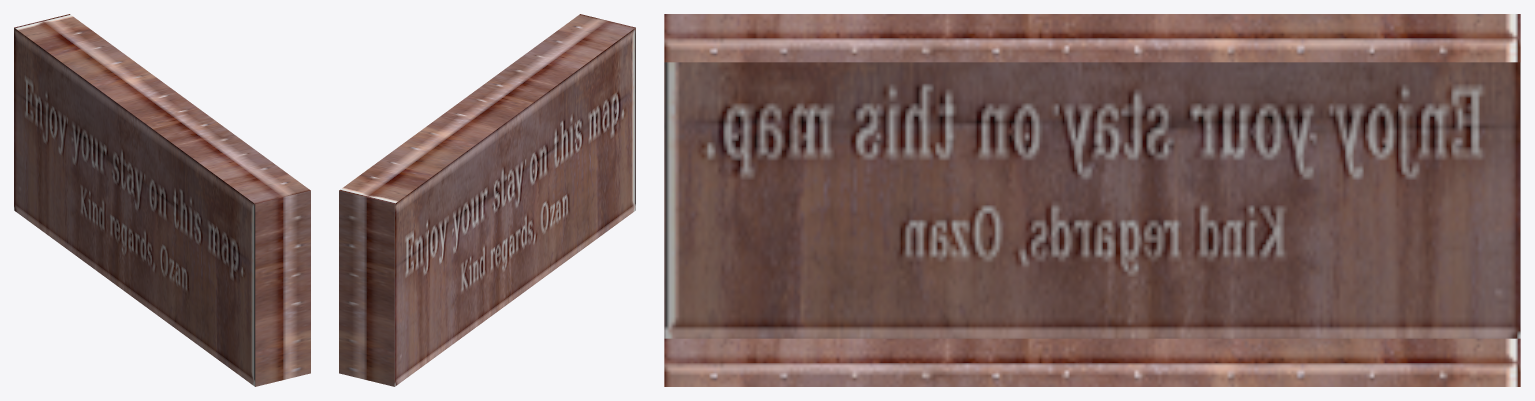
File: ozan_enjoy.fbx
The picture shows the model from 3 angles, left to right: view 1: azimuth 30°, elevation 25°; view 2: azimuth 150°, elevation 25°; view 3: azimuth 270°, elevation 25°; orthographic projection. The views are drawn at different scales.
Parts seen in each view (by area): view 1: Bazaar Complex Easteregg; view 2: Bazaar Complex Easteregg; view 3: Bazaar Complex Easteregg.
Part boxes in pixels (<box>): Bazaar Complex Easteregg: <box>14,14,310,386</box>; Bazaar Complex Easteregg: <box>339,14,635,386</box>; Bazaar Complex Easteregg: <box>664,14,1520,386</box>.
Size of the model in its own units: 0.3361 by 1.06 by 2.52.
